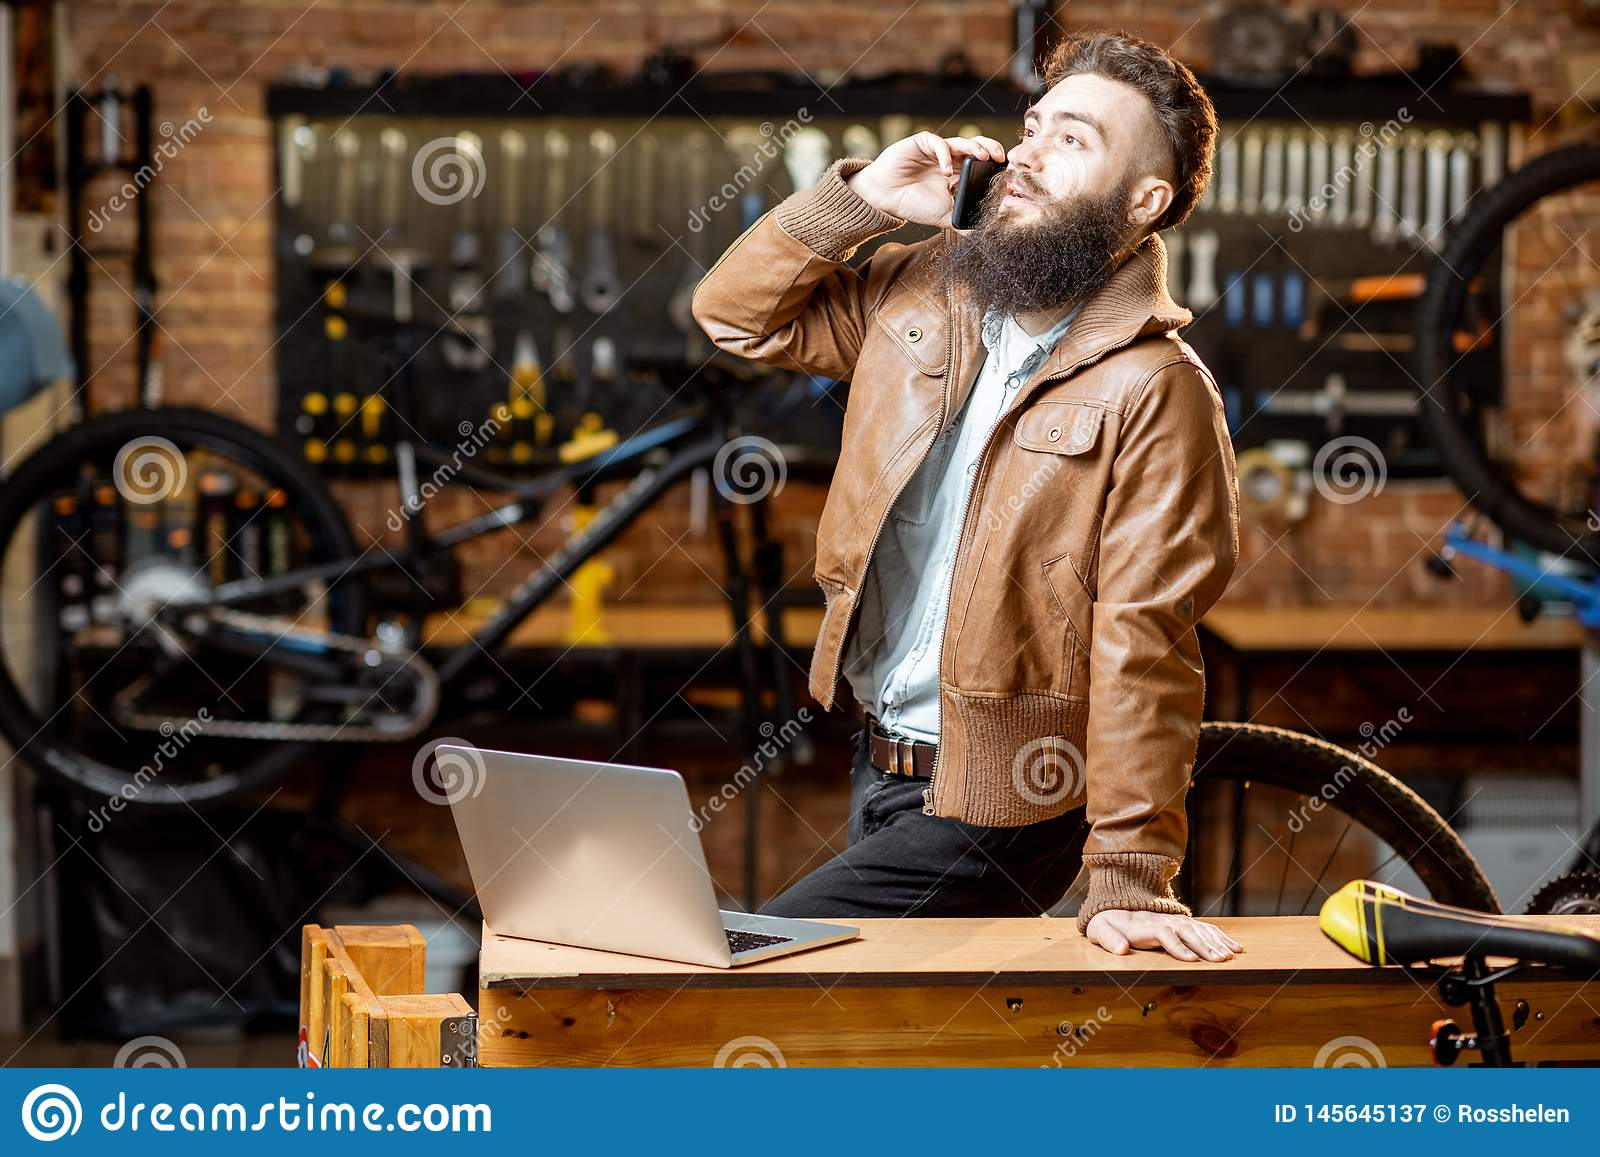phone: (953, 144, 1007, 229)
talk: (865, 103, 1111, 236)
